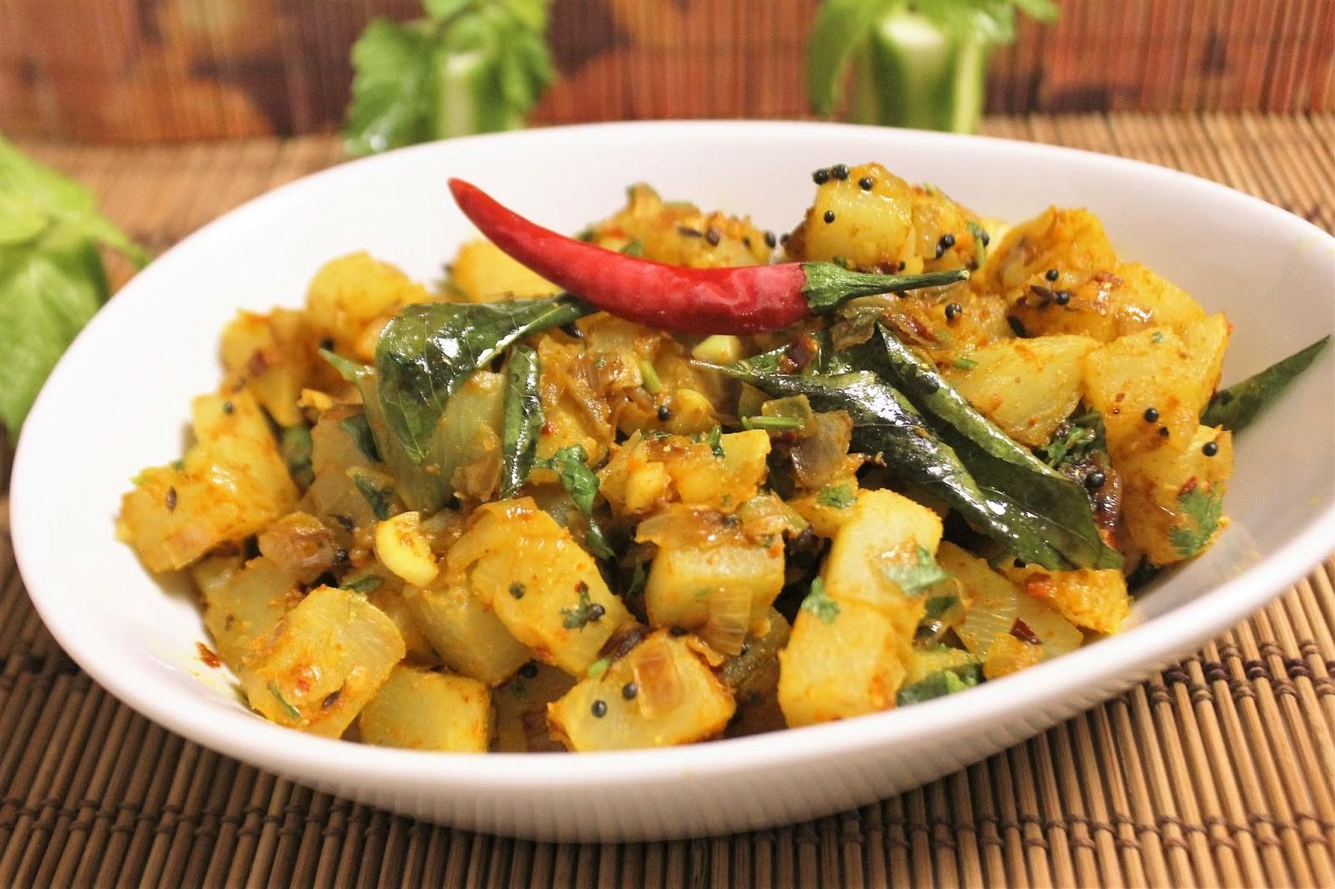AlooMasala: (115, 161, 1230, 753)
